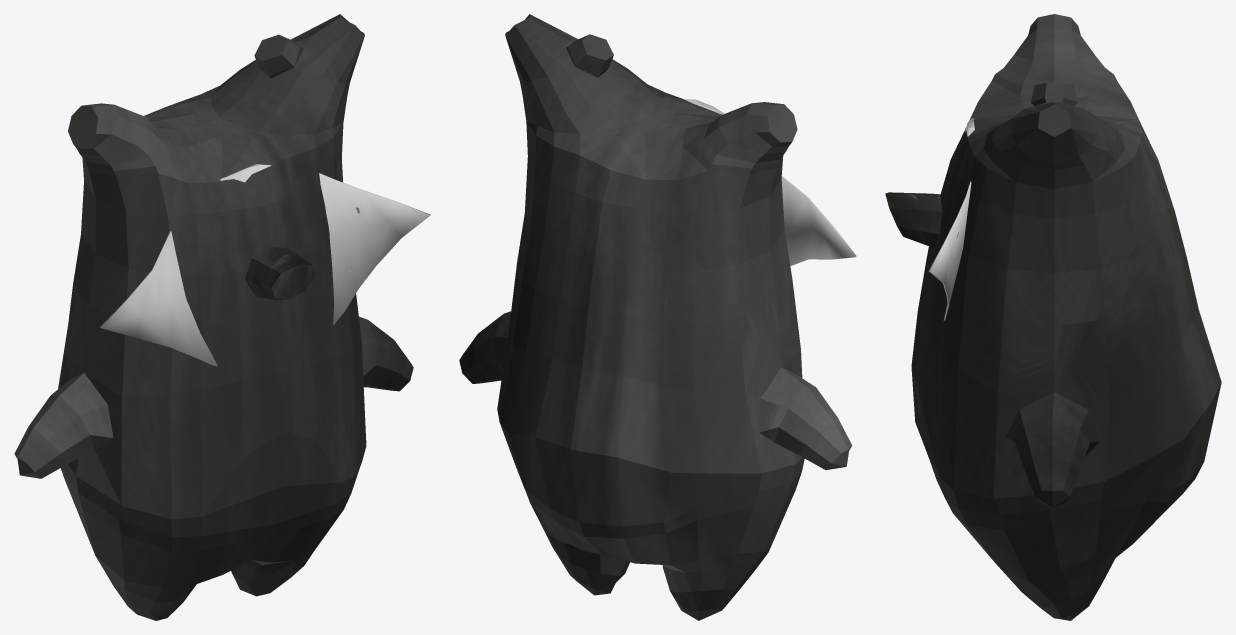
File: frame_0013.obj
3 renders of one model, left to right at view 1: azimuth 30°, elevation 25°; view 2: azimuth 150°, elevation 25°; view 3: azimuth 270°, elevation 25°, orthographic. The views are drawn at different scales.
Visible parts, largest first — view 1: korok, leaf, nose; view 2: korok, leaf; view 3: korok, nose, leaf.
Part boxes in pixels (<box>): korok: <box>14,14,413,620</box>; leaf: <box>100,164,430,366</box>; nose: <box>245,246,315,300</box>; korok: <box>459,14,852,620</box>; leaf: <box>684,99,856,265</box>; korok: <box>911,14,1221,620</box>; nose: <box>885,192,942,247</box>; leaf: <box>928,118,974,320</box>.
Bounding box in the file's own units: 1.67 × 2.29 × 1.27.
